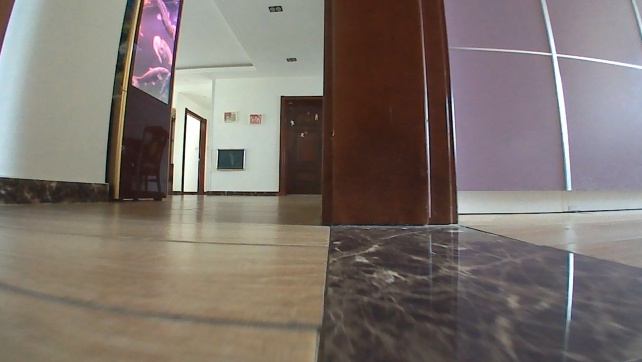door_anno: (277, 95, 325, 196)
